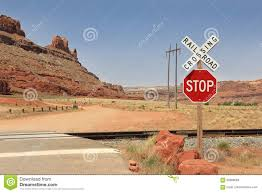Stop: (183, 63, 225, 104)
